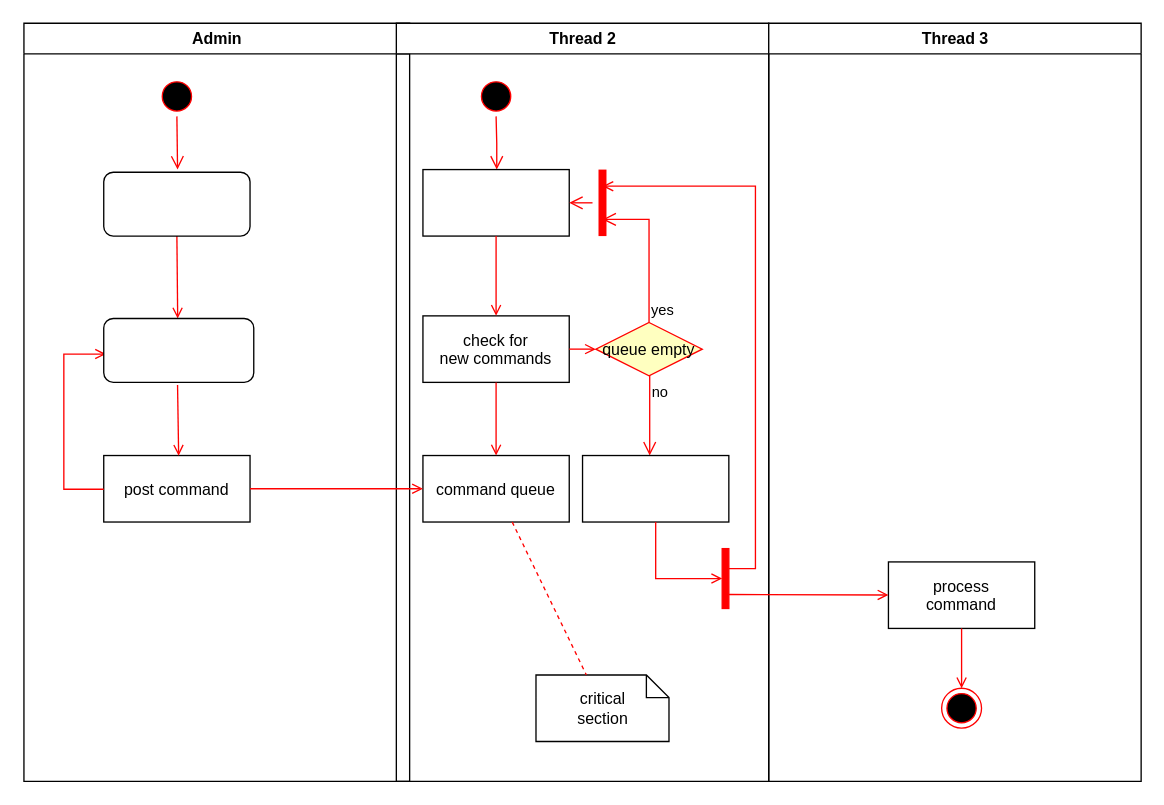
This 1164x805 diagram has some shape labels left out. The shapes that lost their labels are listed below. From the top down, each one's centre as x and y in pixels, then its label:
the point at 176,203: Admin Dashboard
the point at 495,202: idle
the point at 178,349: Laporan Whatsapp
the point at 655,488: dispatch command worker thread
